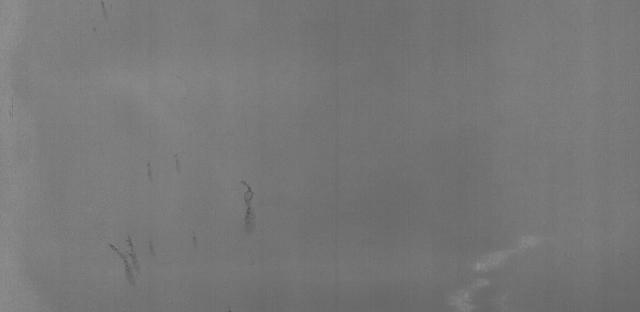water_spot: (226, 164, 275, 241), (104, 220, 150, 300)
